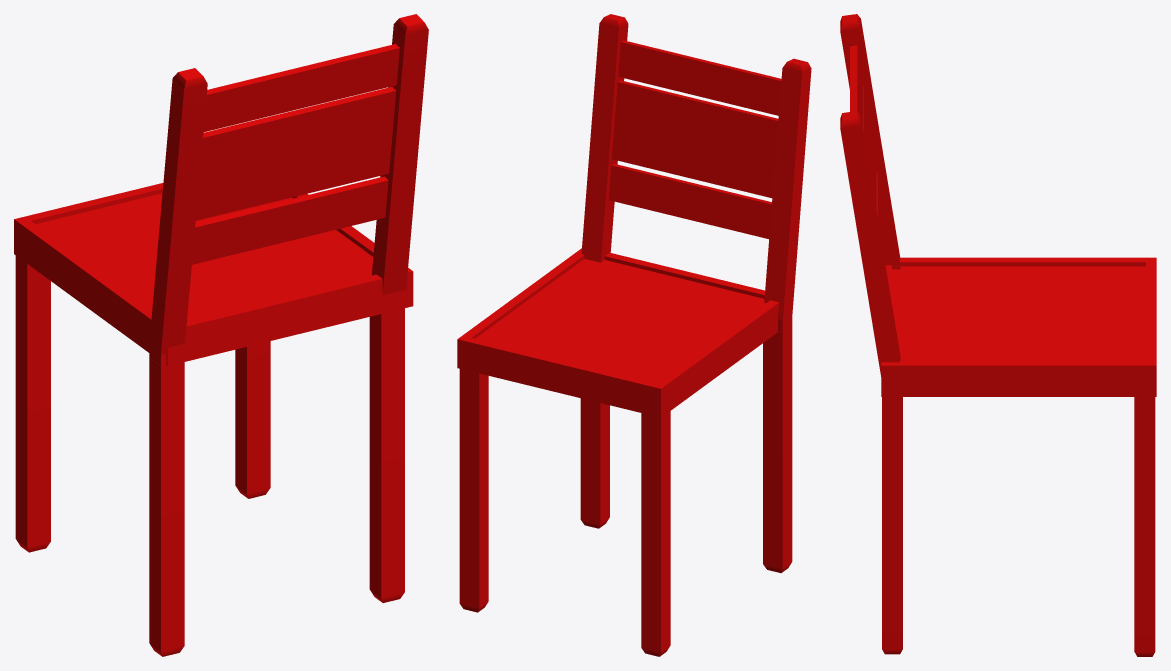
The model's file is Chair_04_Lod0.fbx.
3 renders of one model, left to right at view 1: azimuth 30°, elevation 25°; view 2: azimuth 150°, elevation 25°; view 3: azimuth 270°, elevation 25°, orthographic. The views are drawn at different scales.
Parts seen in each view (by area): view 1: Chair_04_Lod0; view 2: Chair_04_Lod0; view 3: Chair_04_Lod0.
Part boxes in pixels (bbox=[...]): Chair_04_Lod0: bbox=[14, 14, 428, 656]; Chair_04_Lod0: bbox=[457, 14, 811, 656]; Chair_04_Lod0: bbox=[840, 14, 1156, 656].
Bounding box in the file's own units: 38.43 × 86.92 × 46.48.
